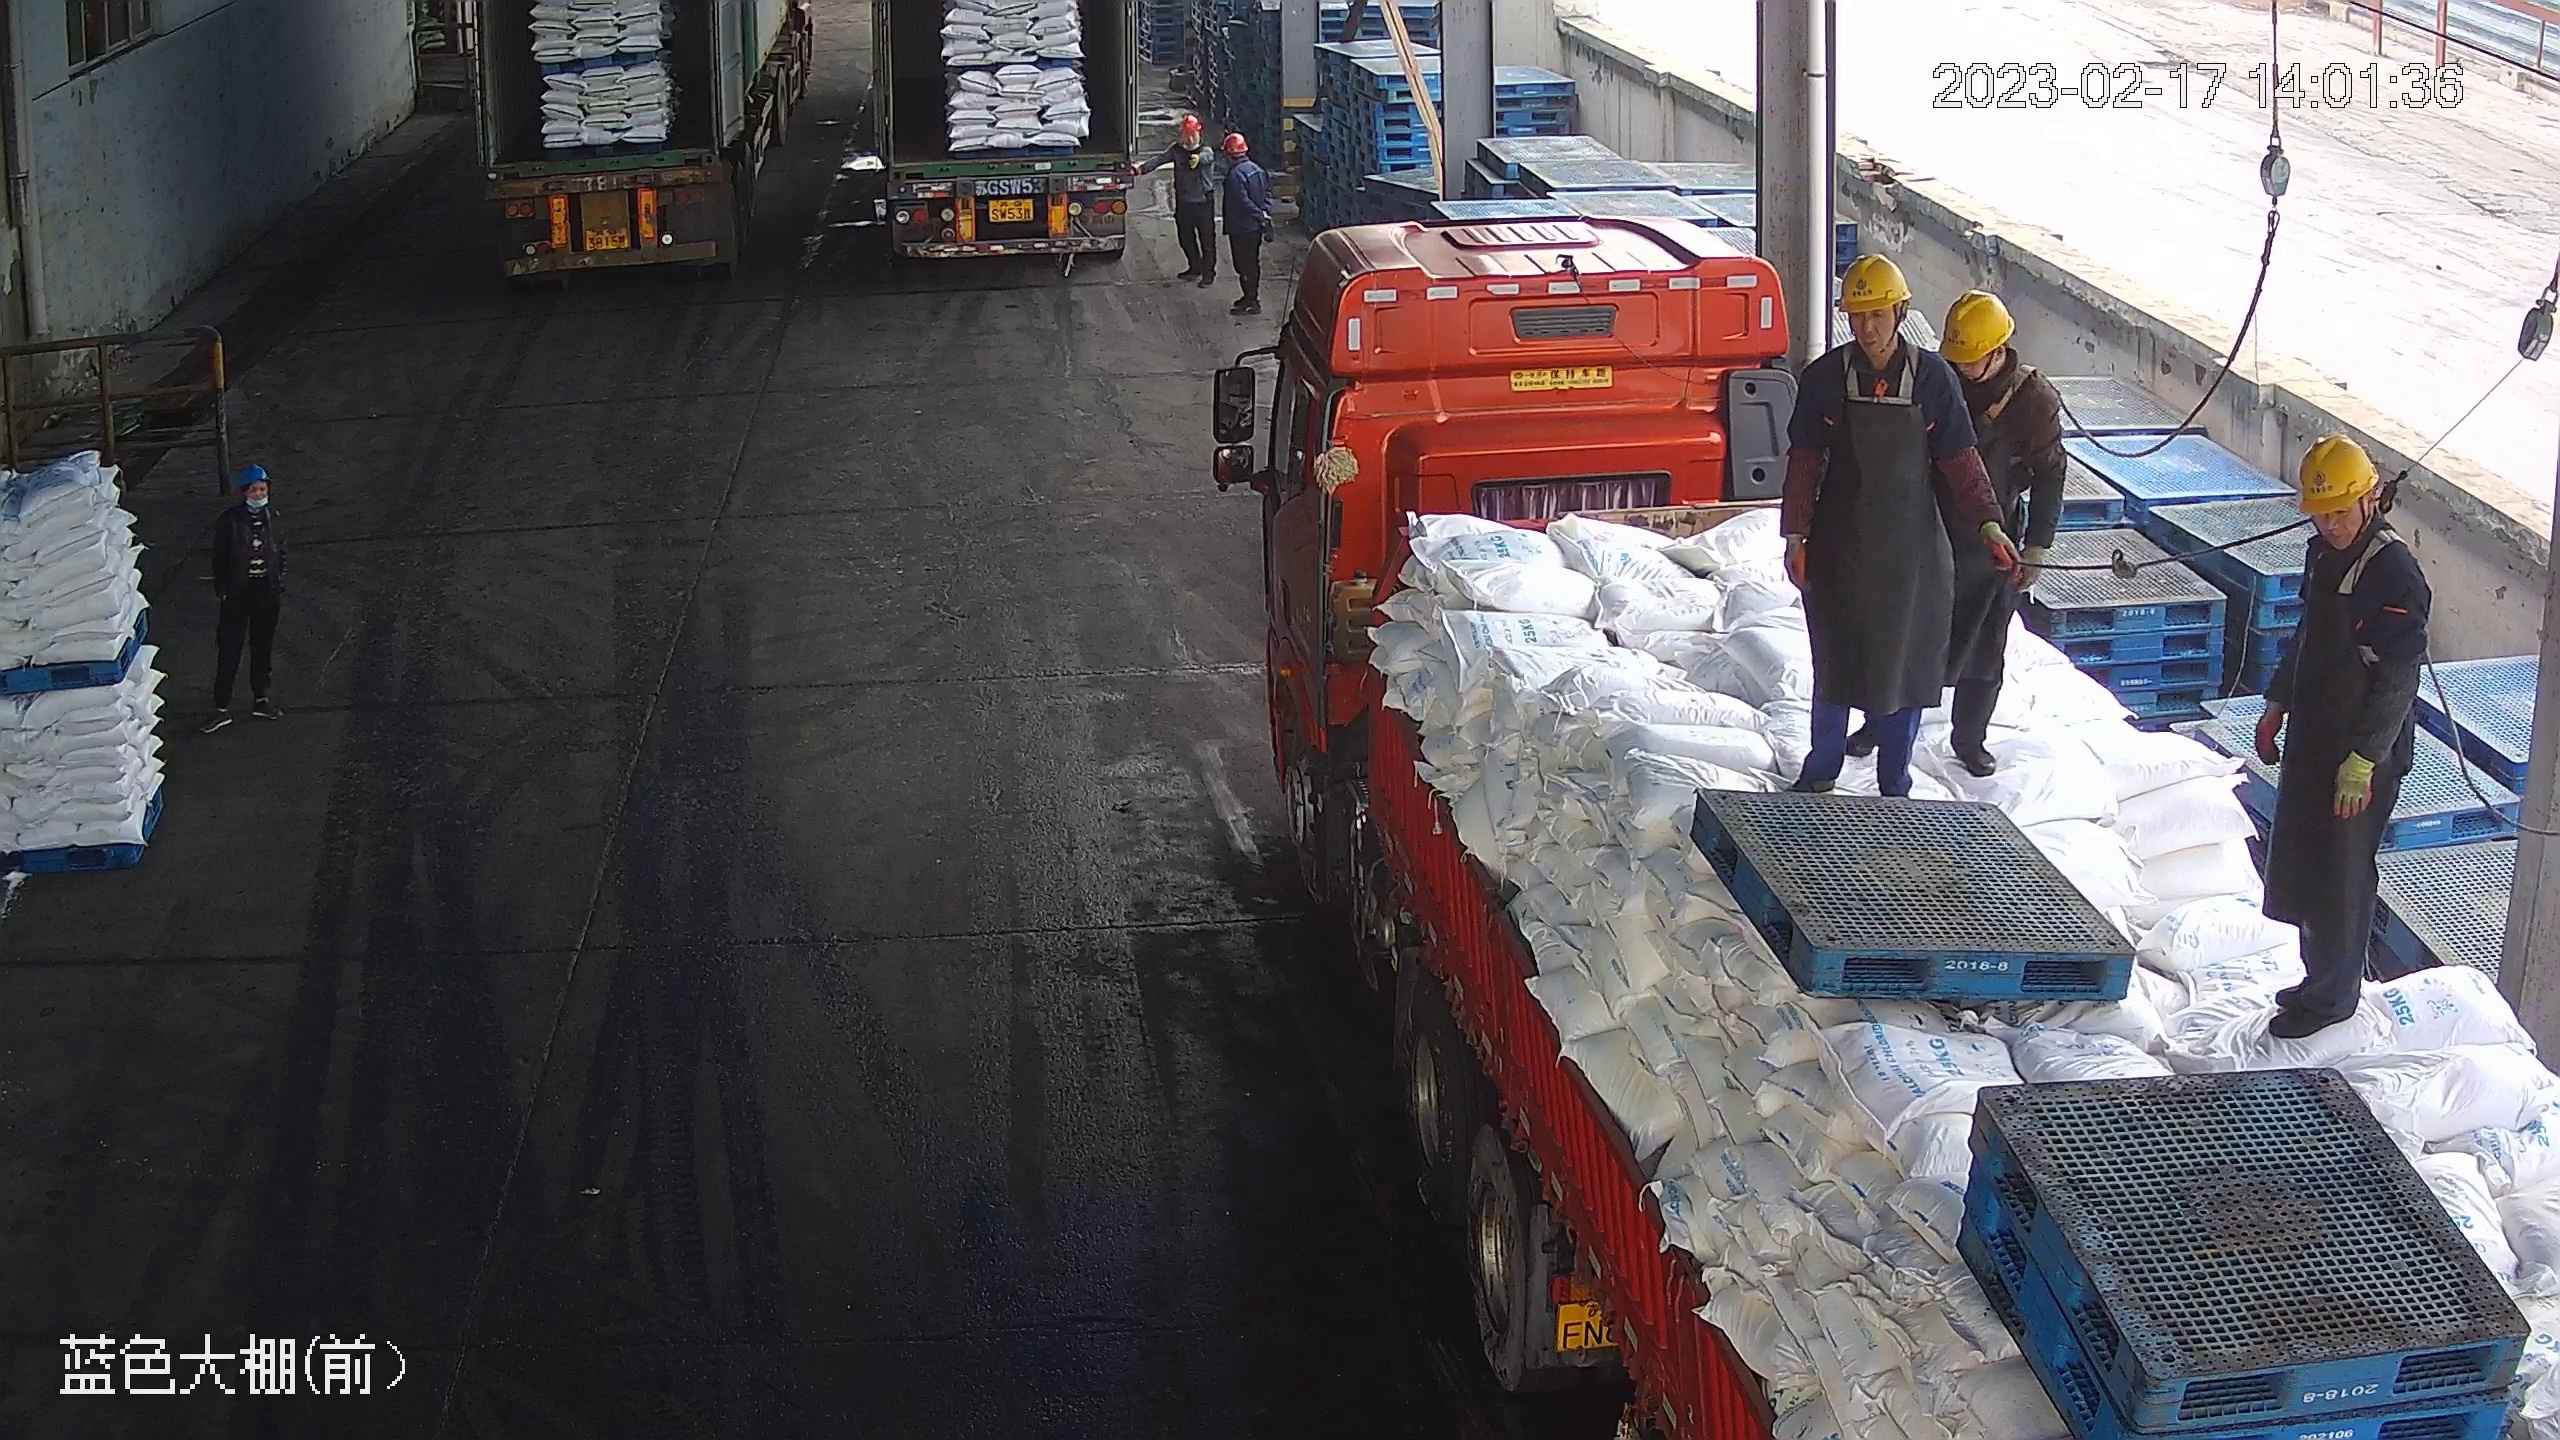belt: (2311, 521, 2414, 599), (1832, 338, 1943, 404), (1956, 362, 2057, 423)
head: (2255, 430, 2432, 646), (1792, 250, 1963, 403), (1930, 288, 2061, 418), (217, 465, 281, 547), (1216, 132, 1267, 193), (1168, 112, 1208, 166)
helmet: (2288, 431, 2389, 514), (1938, 287, 2013, 363), (1836, 250, 1911, 309), (242, 465, 271, 492), (1224, 131, 1250, 153), (1176, 110, 1203, 131)
people: (1776, 252, 2011, 798), (2248, 435, 2429, 1044), (1925, 277, 2072, 780), (206, 461, 283, 729), (1214, 132, 1272, 317), (1158, 111, 1213, 284)
truck: (1210, 211, 2560, 1439), (476, 1, 821, 283), (866, 1, 1140, 260)
